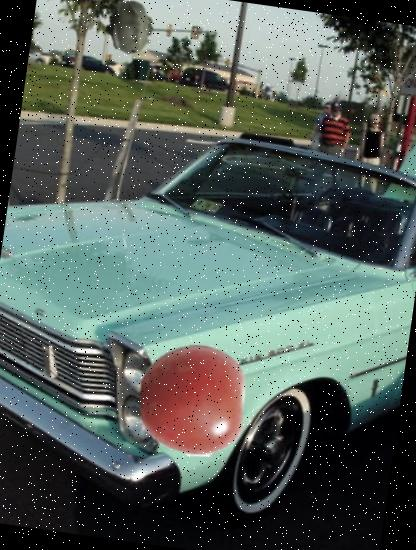Kohlrabi: (98, 0, 161, 59)
Tomato: (130, 338, 254, 463)
